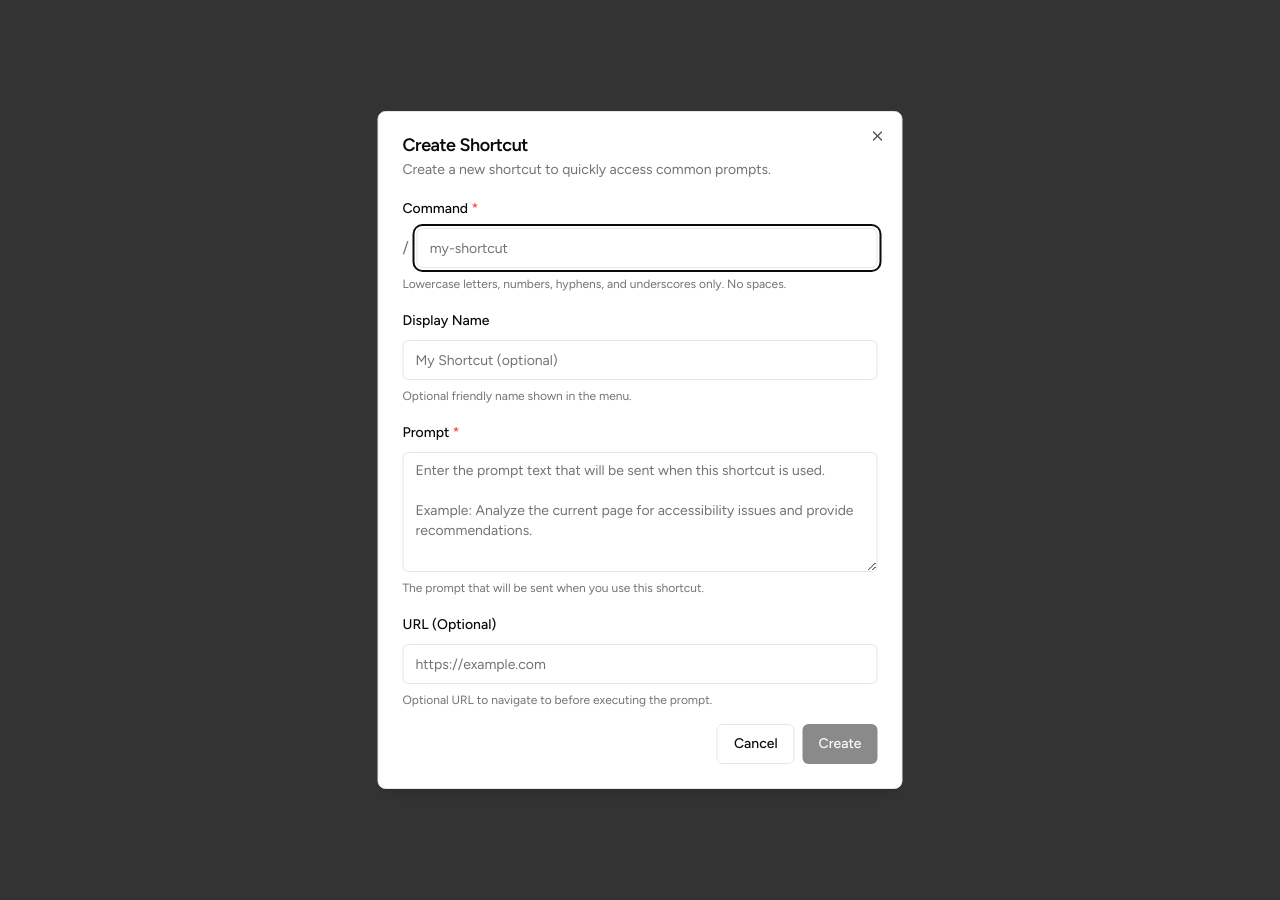
Test: ShortcutEditor › Create Mode › enables submit button when required fields are filled
The image size is (1280, 900).
Type "test" into the field labelled "Command *" at [647, 248], box [417,228,878,268]
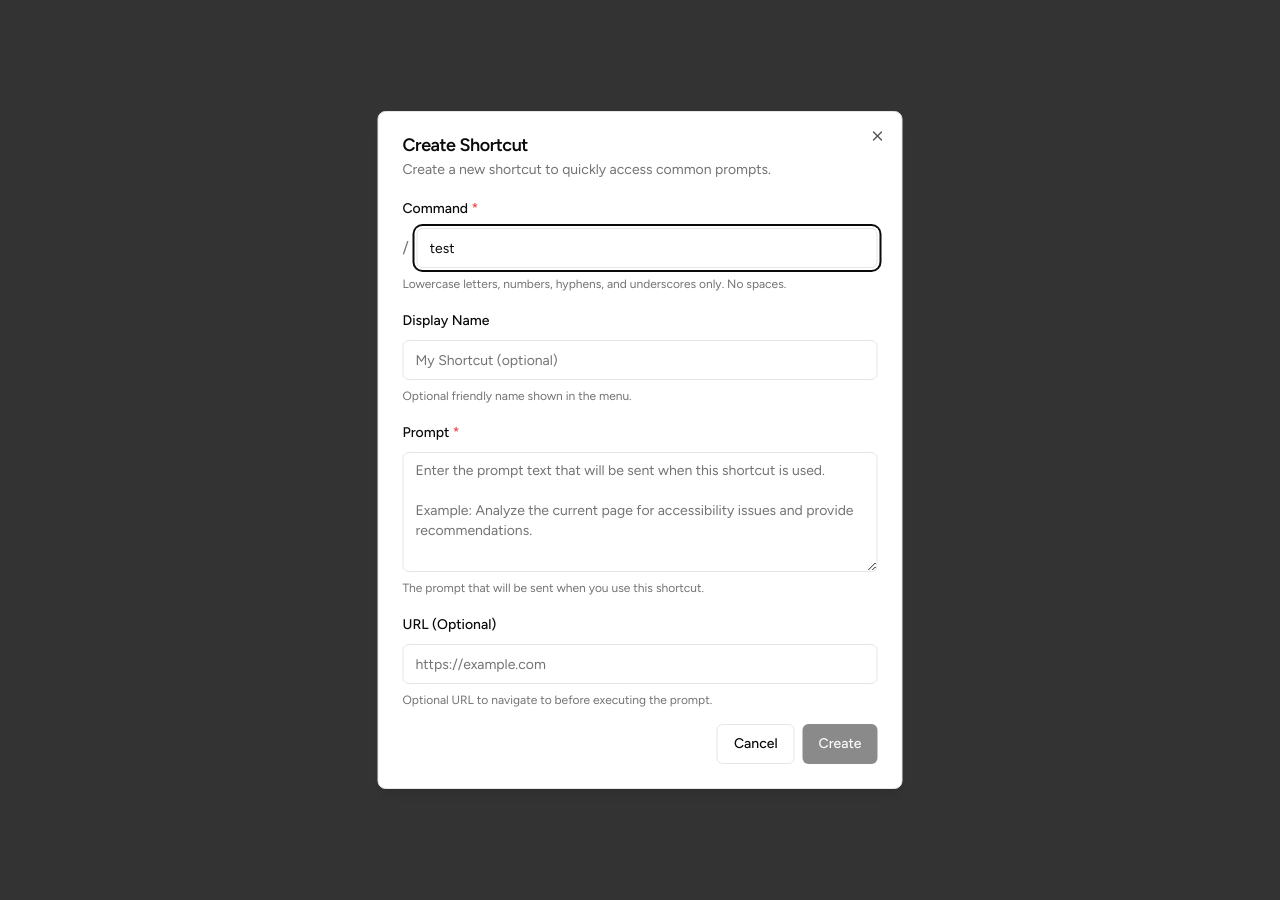
Replace the text in the text box labelled "Prompt *" with "Test prompt" at [640, 512], box [402,452,878,572]
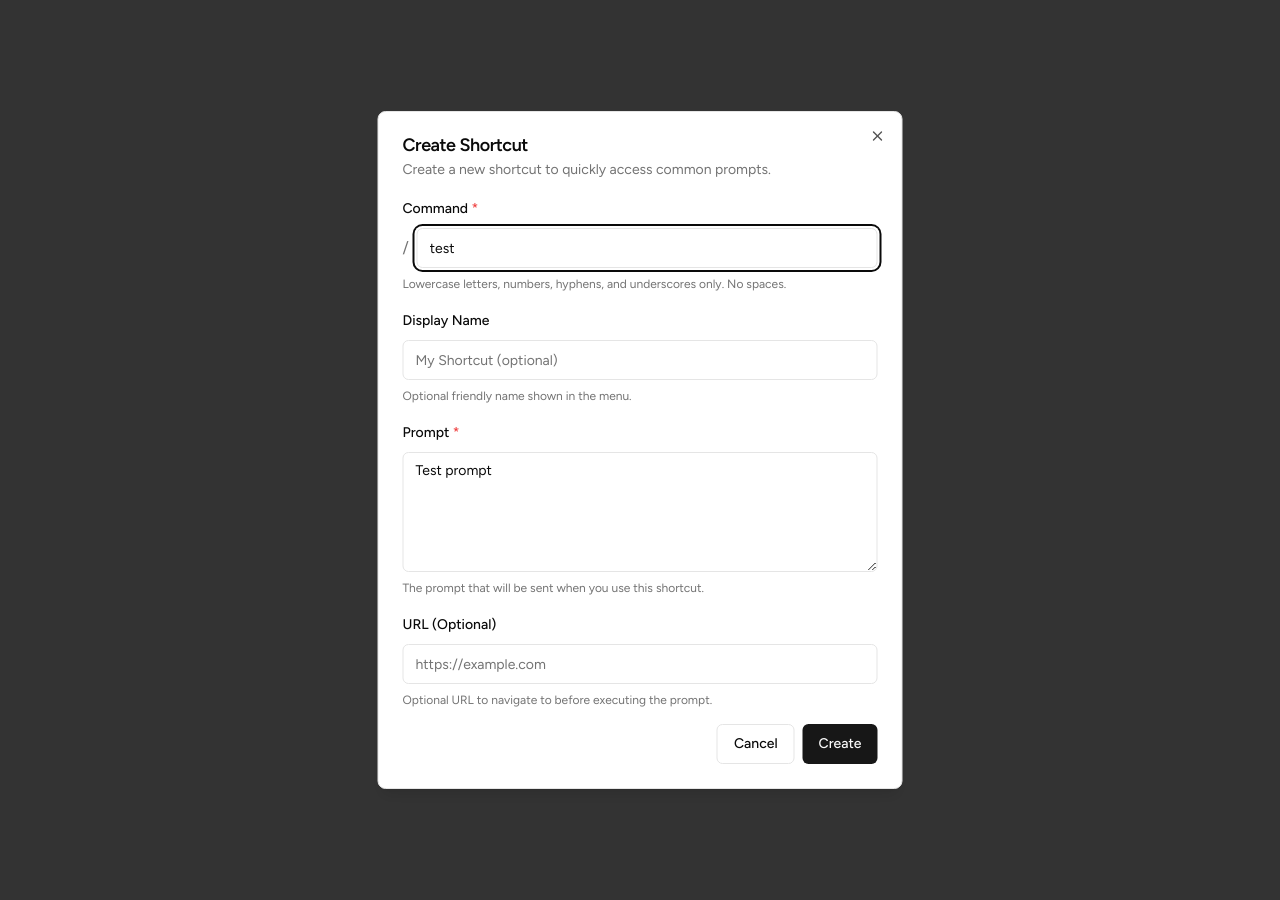
Now the button "Create" is enabled, box [803,724,878,764]
